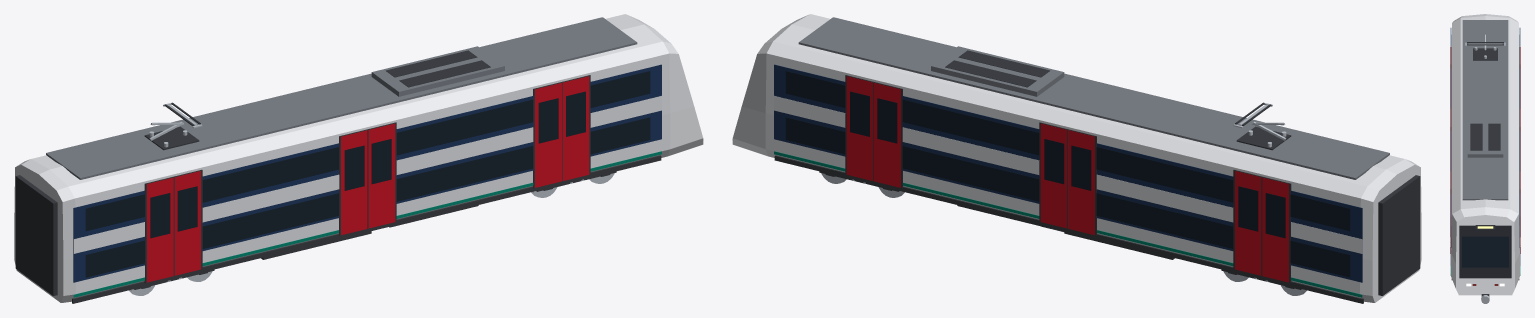
Rendered from rer_a_mi09_cab.glb.
The picture shows the model from 3 angles, left to right: view 1: azimuth 30°, elevation 25°; view 2: azimuth 150°, elevation 25°; view 3: azimuth 270°, elevation 25°; orthographic projection. The views are drawn at different scales.
Parts seen in each view (by area): view 1: rer_a_mi09_cab; view 2: rer_a_mi09_cab; view 3: rer_a_mi09_cab.
Boxes of the visible parts, x1,y1,x2,y2 form: rer_a_mi09_cab: (14,14,703,303); rer_a_mi09_cab: (732,14,1421,303); rer_a_mi09_cab: (1450,14,1520,303).
Bounding box in the file's own units: 21.17 × 4.88 × 2.97.
Materials: 3 (3 with a texture image).
